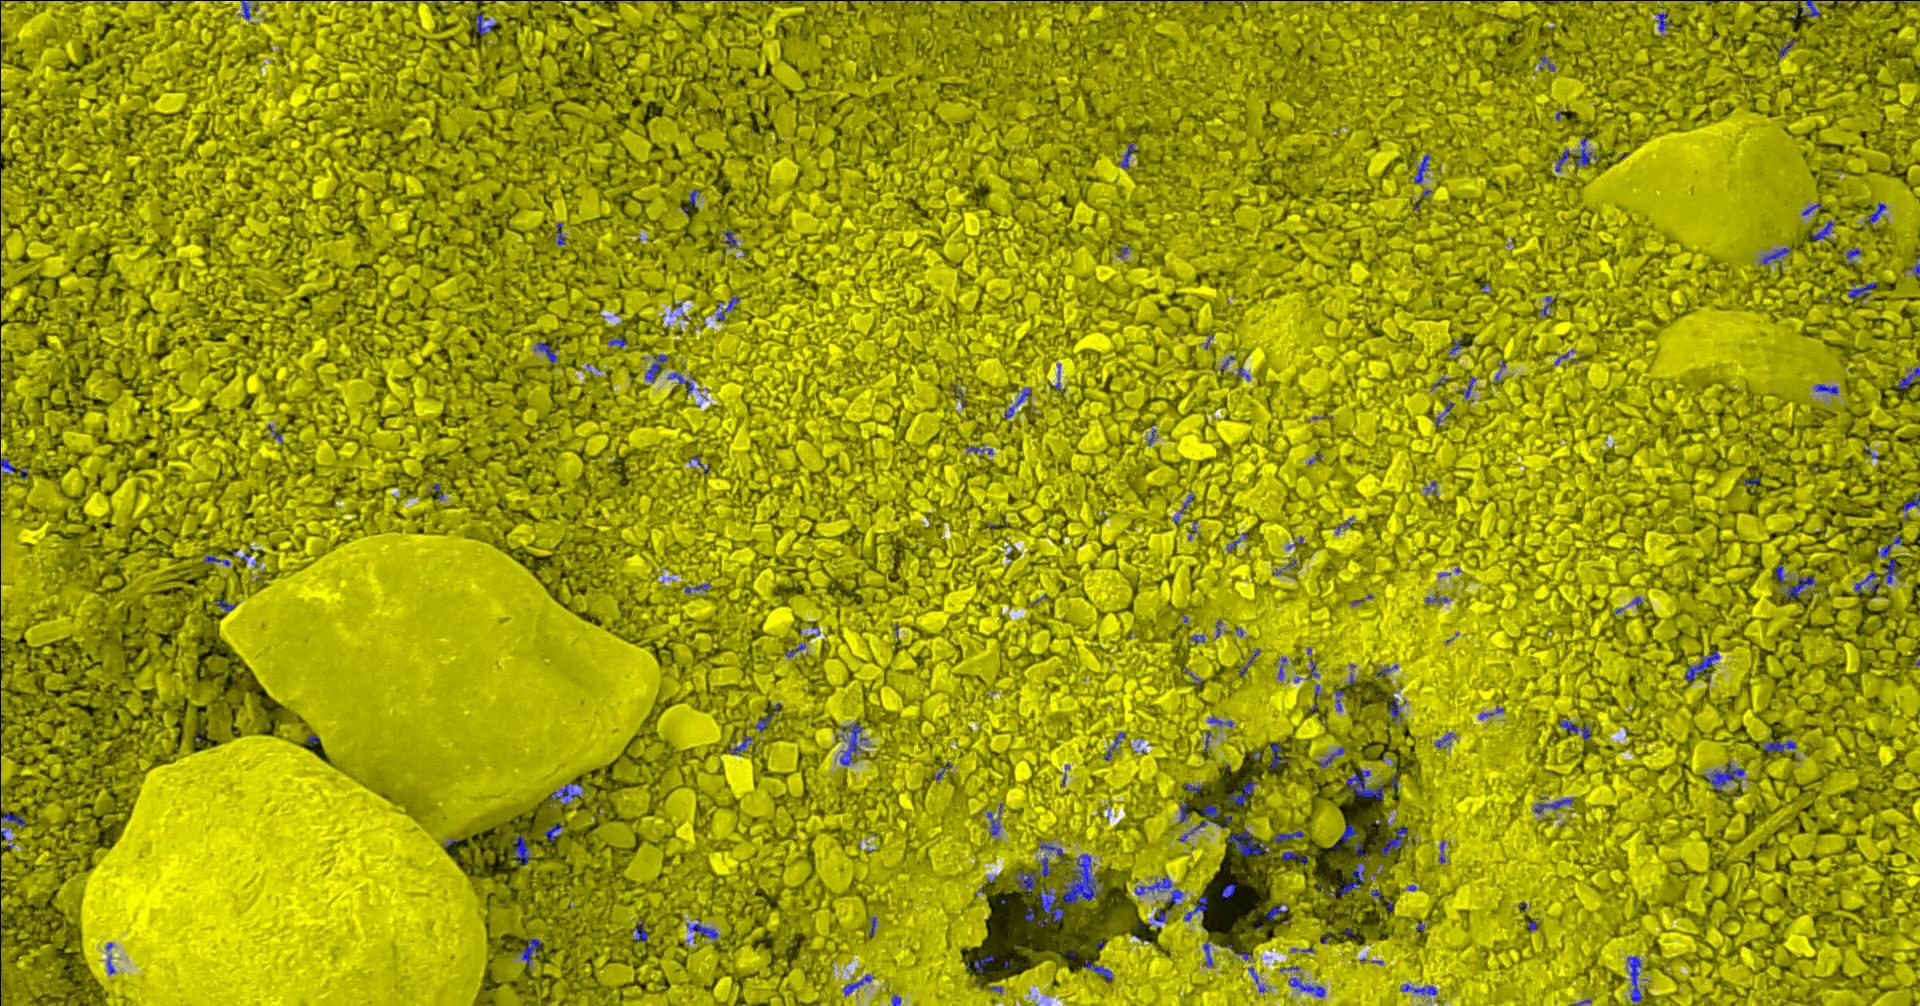ant: (1062, 854, 1100, 904), (1134, 876, 1182, 907), (1015, 857, 1051, 895), (839, 721, 867, 765), (1705, 761, 1743, 791), (1346, 768, 1384, 799), (1330, 862, 1364, 895), (1227, 829, 1271, 855), (1035, 887, 1063, 926), (1684, 650, 1719, 680), (1003, 387, 1031, 419), (1379, 826, 1407, 855), (1338, 823, 1363, 855), (1227, 780, 1256, 805), (550, 782, 583, 804), (1785, 575, 1815, 600), (1288, 977, 1324, 996), (842, 973, 872, 996), (1625, 956, 1641, 1001), (1559, 719, 1590, 741), (1533, 796, 1572, 813), (1084, 959, 1112, 982), (1103, 730, 1125, 760), (519, 937, 541, 967), (644, 354, 667, 381), (1848, 281, 1876, 302), (1575, 137, 1595, 166), (1177, 821, 1206, 841), (1183, 895, 1208, 920), (686, 923, 717, 941), (716, 296, 739, 320), (1876, 536, 1901, 558), (1239, 648, 1260, 674), (1853, 572, 1881, 591), (1760, 246, 1789, 264), (512, 836, 530, 865), (667, 372, 693, 391), (1319, 747, 1343, 767), (1810, 220, 1832, 240), (535, 342, 557, 362), (965, 955, 993, 972), (1119, 142, 1137, 168), (1413, 154, 1429, 183), (1897, 367, 1919, 387), (1200, 803, 1220, 824), (1039, 843, 1062, 862), (1399, 983, 1436, 995), (1884, 558, 1901, 583), (1763, 739, 1796, 752), (1247, 967, 1263, 992), (475, 13, 494, 34), (729, 735, 750, 754), (1385, 695, 1401, 721), (1867, 202, 1886, 222), (0, 810, 25, 826), (1272, 829, 1303, 842), (1269, 742, 1283, 768), (1265, 904, 1288, 920), (721, 229, 739, 248), (985, 810, 999, 835), (1434, 730, 1454, 747), (632, 920, 648, 941), (1556, 149, 1570, 171), (1778, 38, 1796, 56), (543, 822, 561, 840), (1462, 376, 1476, 398), (1902, 493, 1919, 511), (756, 714, 772, 732), (1656, 11, 1671, 30), (1281, 851, 1307, 862), (1208, 715, 1232, 727), (203, 555, 229, 565), (215, 600, 235, 612), (1845, 248, 1862, 263), (1375, 664, 1397, 676), (1813, 384, 1837, 394), (684, 583, 709, 593), (1220, 883, 1236, 898), (1804, 0, 1818, 17), (966, 445, 992, 453), (1203, 941, 1211, 967), (1153, 908, 1164, 927), (0, 459, 14, 474), (1178, 801, 1189, 822), (556, 222, 565, 245), (1335, 687, 1343, 710), (240, 0, 250, 19), (608, 337, 625, 348), (1775, 564, 1783, 582)
